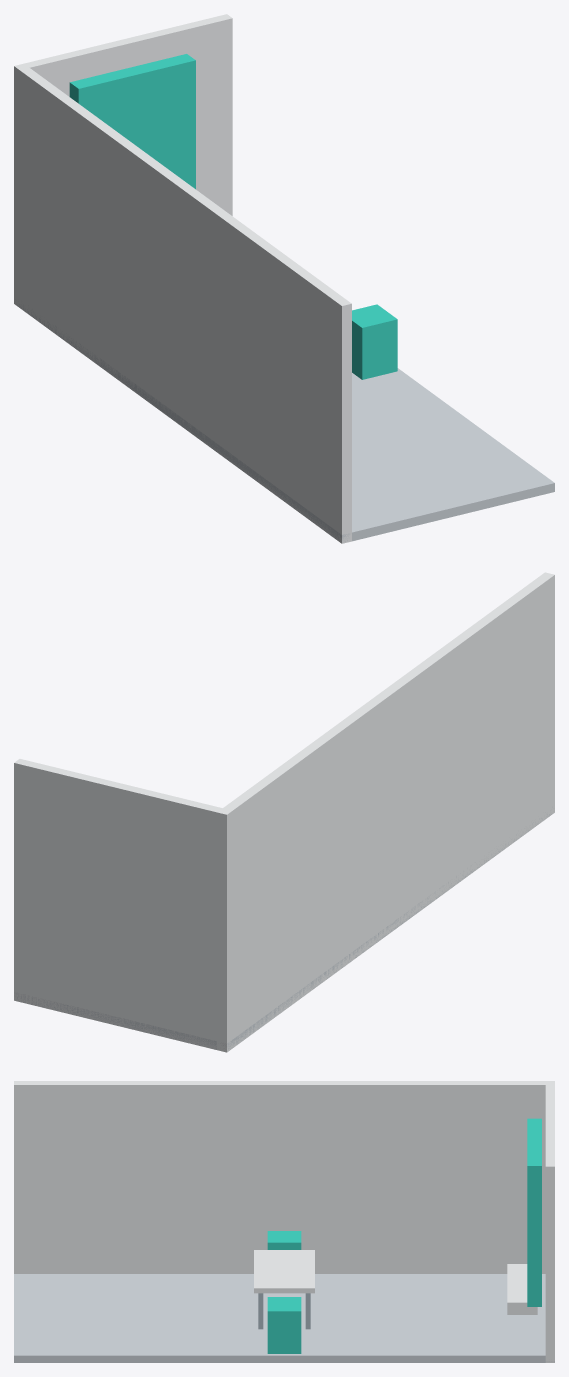
3 renders of one model, top to bottom at view 1: azimuth 30°, elevation 25°; view 2: azimuth 150°, elevation 25°; view 3: azimuth 270°, elevation 25°, orthographic. The views are drawn at different scales.
Visible parts, largest first — view 1: Exhibition Booth Concept; view 2: Exhibition Booth Concept; view 3: Exhibition Booth Concept.
Boxes of the visible parts, <box> form: Exhibition Booth Concept: <box>14,14,554,543</box>; Exhibition Booth Concept: <box>14,572,554,1052</box>; Exhibition Booth Concept: <box>14,1081,554,1362</box>.
Bounding box in the file's own units: 3 × 3.2 × 8.
